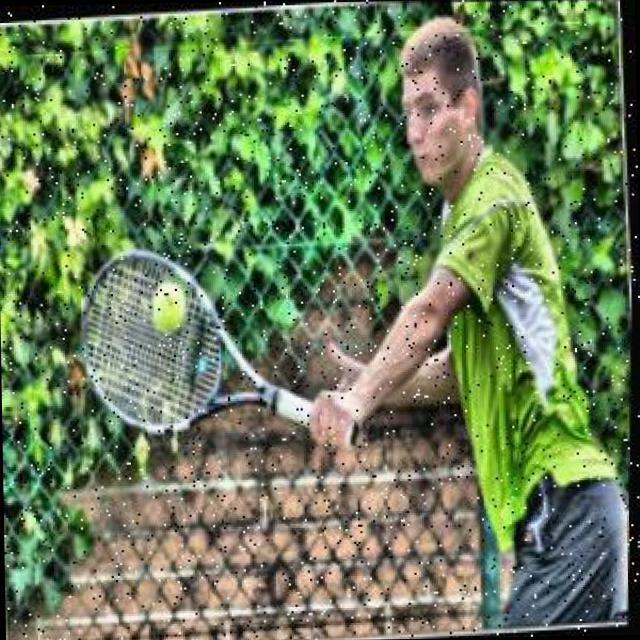tennis-ball: (150, 278, 187, 332)
